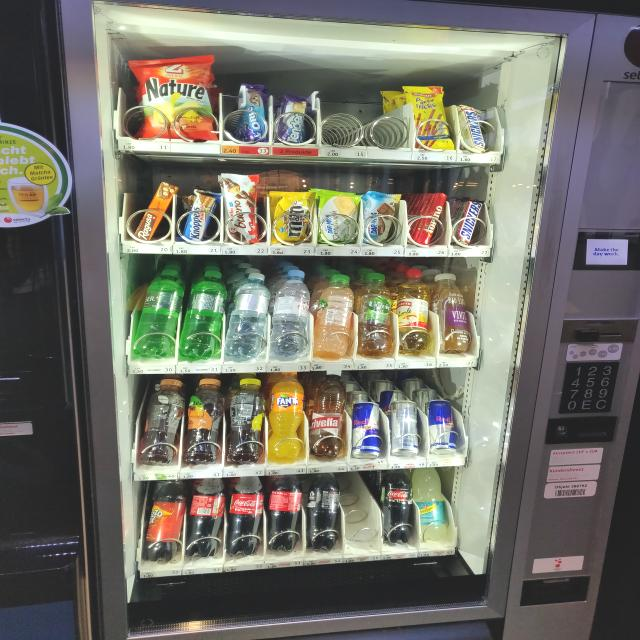bueno___43__4008400320328: (225, 174, 259, 243)
coke__flasche_50__54491472: (184, 478, 224, 558), (266, 473, 304, 553), (228, 474, 266, 554)
coke_zero_flasche_50__5449000131836: (304, 472, 342, 553), (380, 472, 415, 542)
darwida_chocaulait____: (360, 192, 401, 244)
darwida_sandwich____7610032065170: (319, 192, 362, 244)
evian___50__3068320353500: (270, 268, 308, 359)
fanta___50__40822938: (264, 374, 305, 459)
fuse_lemon__50__5449000235947: (228, 377, 268, 468)
fuse_peach__50__5449000236623: (140, 378, 183, 464), (184, 378, 224, 466)
knoppers_riegel____4035800488808: (179, 191, 220, 242)
malburner_partysticks__40__7610200279682: (404, 84, 454, 149)
mezzomix___50__54490840: (143, 479, 186, 560)
milka_oreo_riegel_37_1_7622210704740: (238, 82, 269, 144)
milka_tender____: (280, 98, 311, 140)
mnms_gelb__45__40111445: (272, 192, 314, 244)
ragusa___50__76401121: (132, 184, 175, 242)
ramseier_schorle__50__7610057012456: (396, 271, 429, 351)
redbull___33__90162909: (349, 399, 382, 461), (387, 395, 420, 456), (426, 398, 455, 454)
rivella_rot__50__7610097111072: (306, 372, 346, 459)
schweppes_bitterlemon__50__: (416, 469, 454, 541)
snickers___50__5000159461122: (449, 198, 484, 247)
snickers_weis__50__5000159461122: (454, 104, 484, 152)
torino___46__76415272: (410, 192, 448, 246)
valser_classic__50__76404160: (136, 268, 183, 359), (180, 273, 226, 360)
valser_still__50__7610335002575: (224, 274, 272, 360)
vivitz_classiczitrone__50__: (436, 272, 478, 353)
volvic_pink__50__: (309, 273, 354, 362)
volvic_teeminze__50__3057640335648: (360, 272, 394, 356)
zweifel_salz__90__7610095005007: (137, 55, 217, 141)
